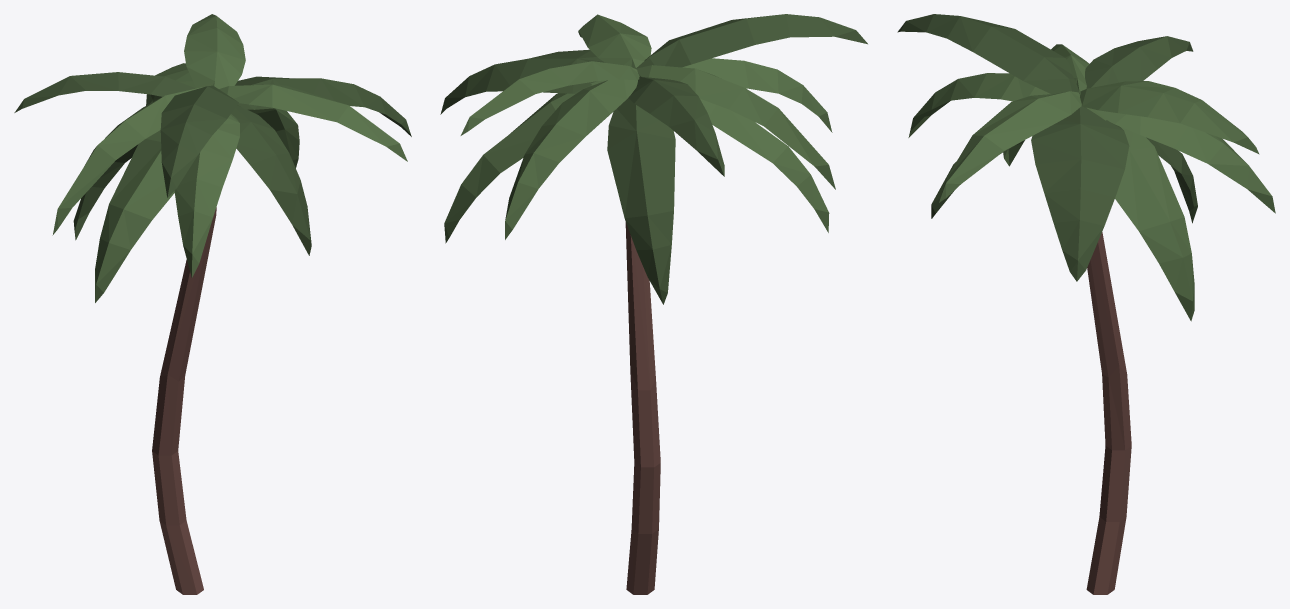
File: PalmTree_3.lod1.glb
3 renders of one model, left to right at view 1: azimuth 30°, elevation 25°; view 2: azimuth 150°, elevation 25°; view 3: azimuth 270°, elevation 25°, orthographic.
Visible parts, largest first — view 1: PalmTree_3; view 2: PalmTree_3; view 3: PalmTree_3.
Part boxes in pixels (left/top/right/bottom): PalmTree_3: left=14, top=14, right=411, bottom=594; PalmTree_3: left=440, top=14, right=867, bottom=594; PalmTree_3: left=897, top=14, right=1275, bottom=594.
Size of the model in its own units: 2.87 by 3.93 by 2.5.
